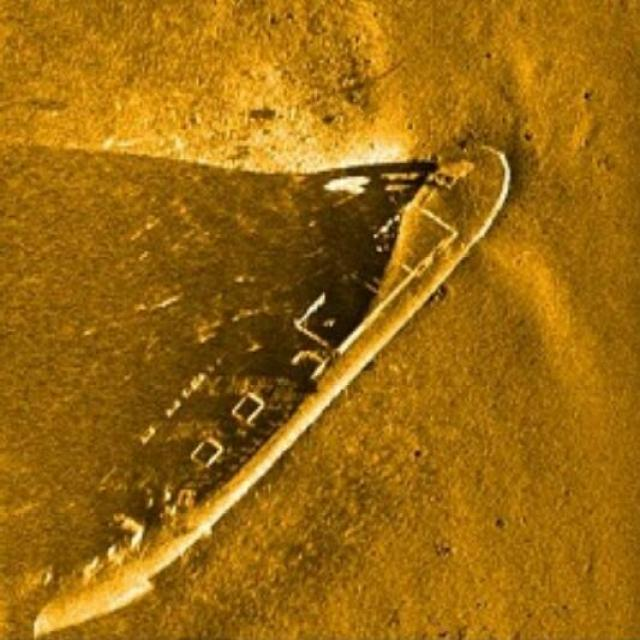ship: (34, 140, 512, 634)
